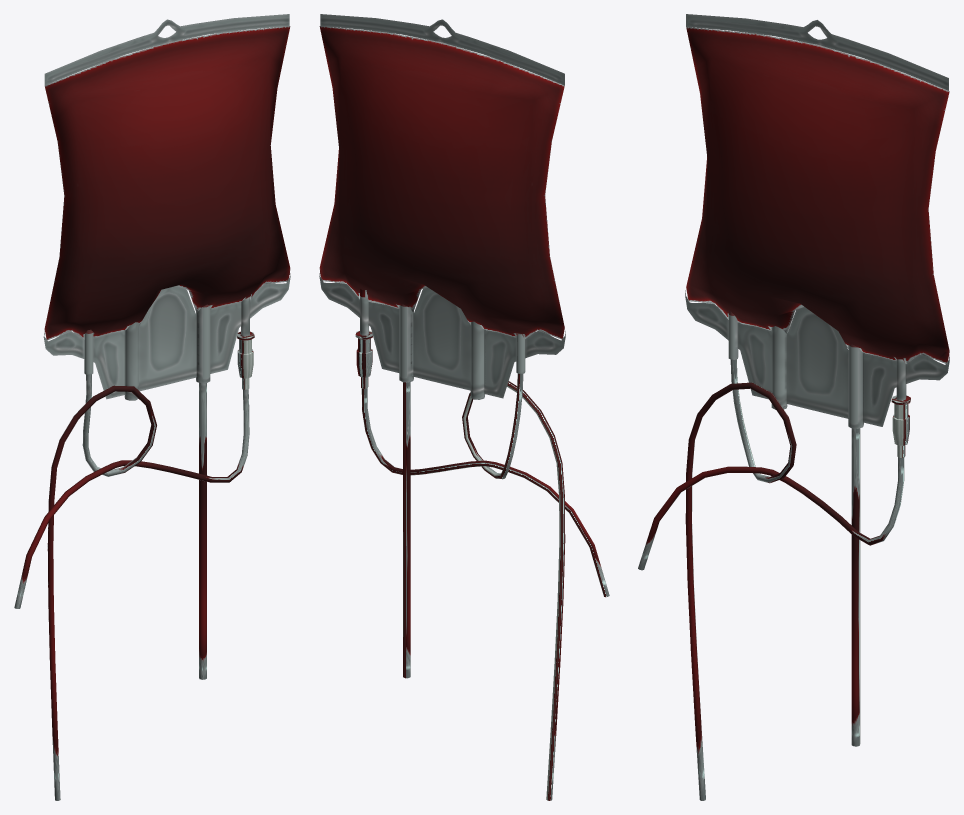
File: Obj-sang-perfusion_01.FBX
The picture shows the model from 3 angles, left to right: view 1: azimuth 30°, elevation 25°; view 2: azimuth 150°, elevation 25°; view 3: azimuth 330°, elevation 25°; orthographic projection. The views are drawn at different scales.
Parts seen in each view (by area): view 1: Obj-sang-perfusion_01; view 2: Obj-sang-perfusion_01; view 3: Obj-sang-perfusion_01.
Boxes of the visible parts, x1=… form: Obj-sang-perfusion_01: x1=14, y1=14, x2=290, y2=800; Obj-sang-perfusion_01: x1=319, y1=14, x2=609, y2=800; Obj-sang-perfusion_01: x1=638, y1=14, x2=949, y2=800.
Size of the model in its own units: 138 by 39.03 by 352.
1 material, 1 textured.
